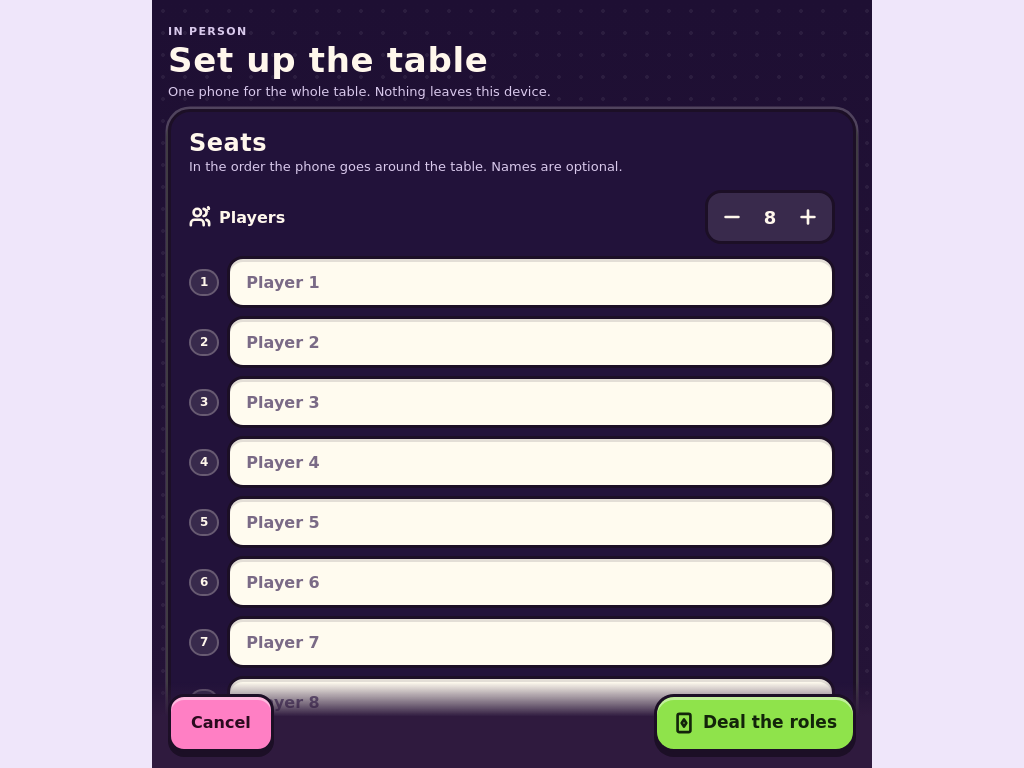
Test: TableSetupView › Deck too big: 7 players with 8 cards shows the deck mismatch
The image size is (1024, 768).
Click the button named "Fewer players": (732, 218) [710,196,754,240]
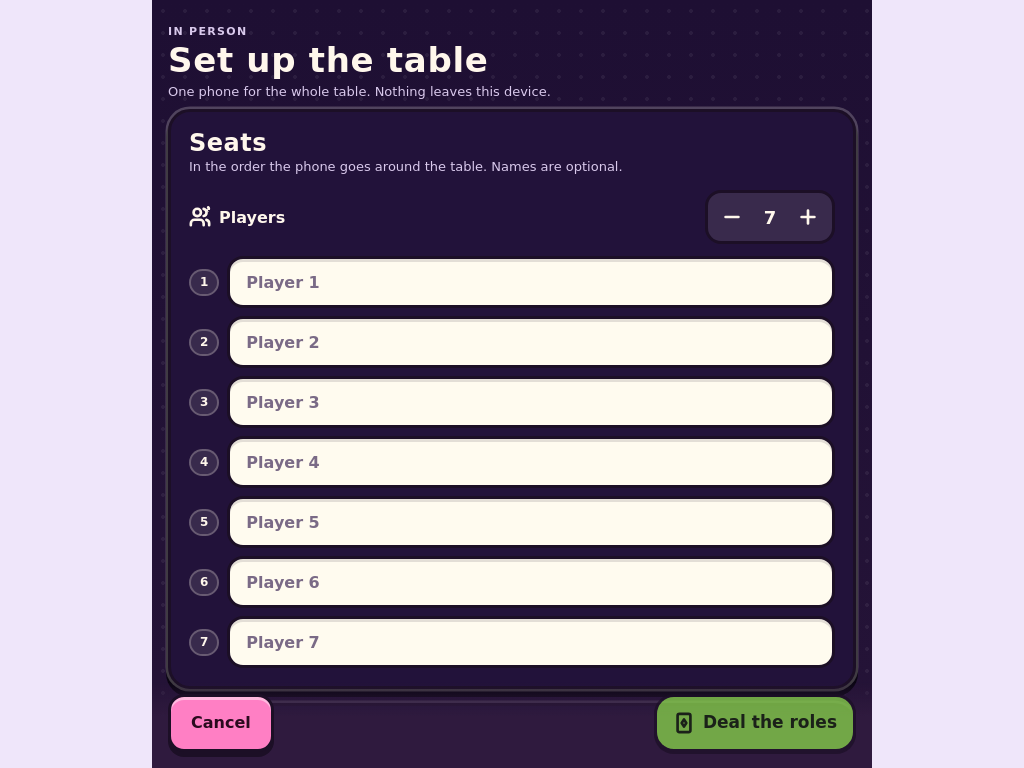
Expected: the number of list items with class "table-setup-name" is 7
Expected: the button "Deal the roles" is disabled, [654,694,856,752]
